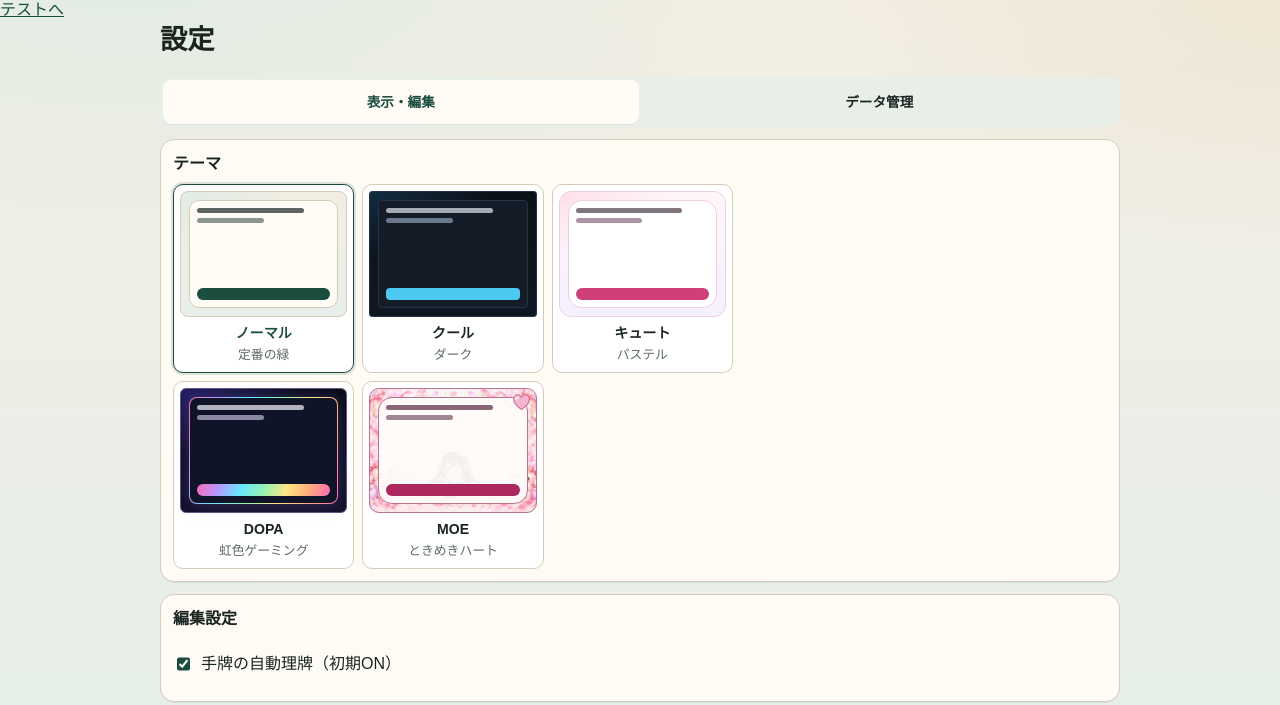
Test: requires explicit legacy selection, preserves other records, and restores through the visible recovery action
What coordinates should you click on to do the following:
click the tab "データ管理"
I would click on:
 (879, 102)
Its box is x1=642 y1=80 x2=1117 y2=124.
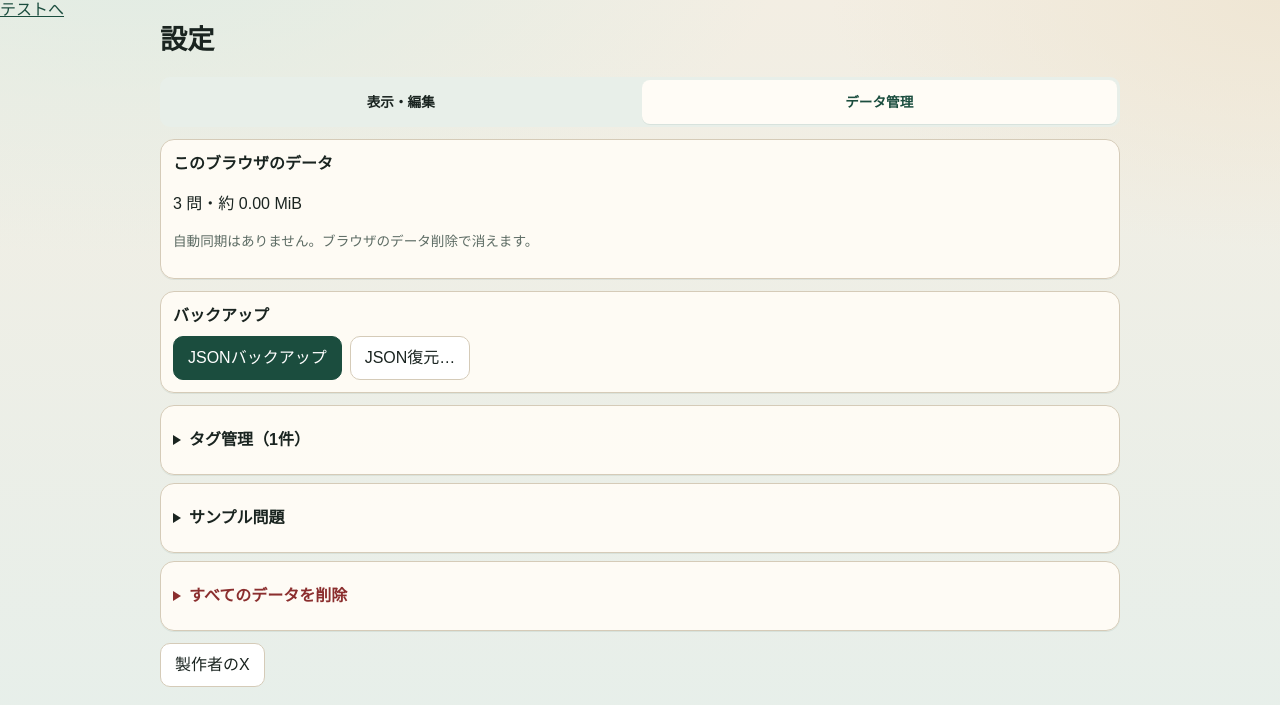
What coordinates should you click on to do the following:
click the heading "サンプル問題"
I would click on:
 (237, 518)
Its box is x1=189 y1=509 x2=284 y2=526.
(page scrolled)
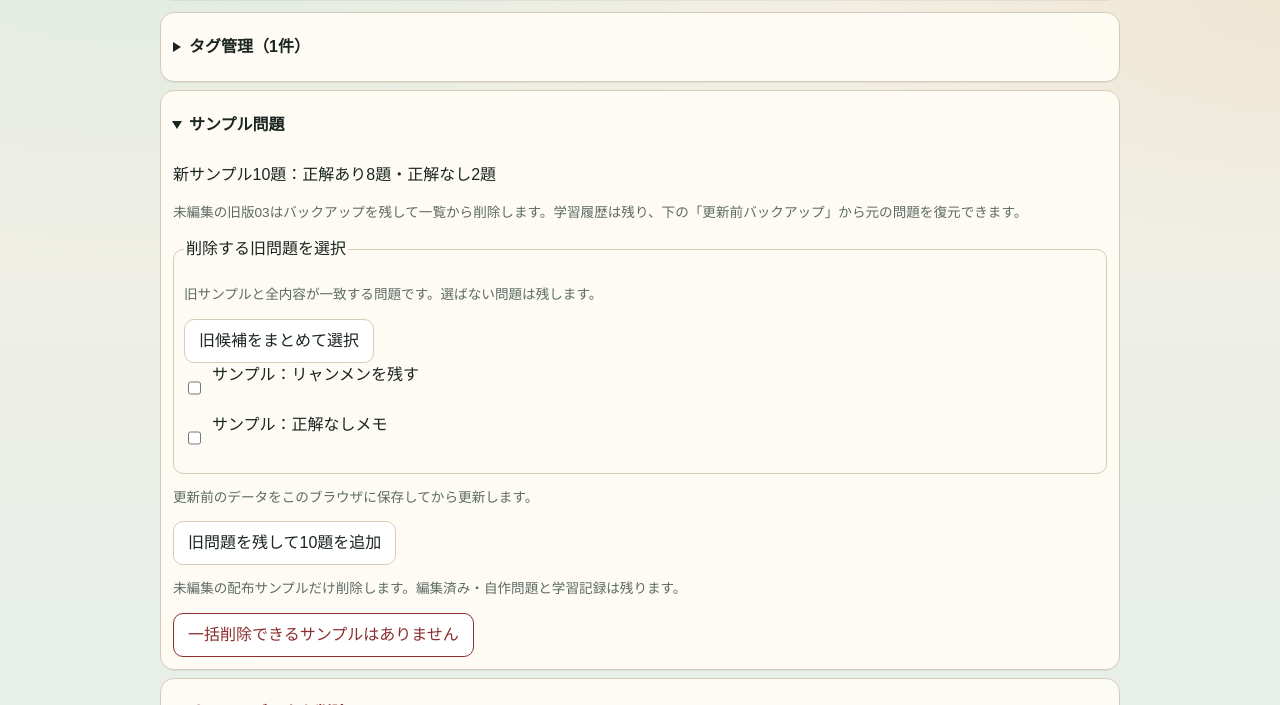
What coordinates should you click on to do the following:
click the checkbox labelled "サンプル：リャンメンを残す"
I would click on:
 (194, 388)
Its box is x1=188 y1=366 x2=201 y2=410.
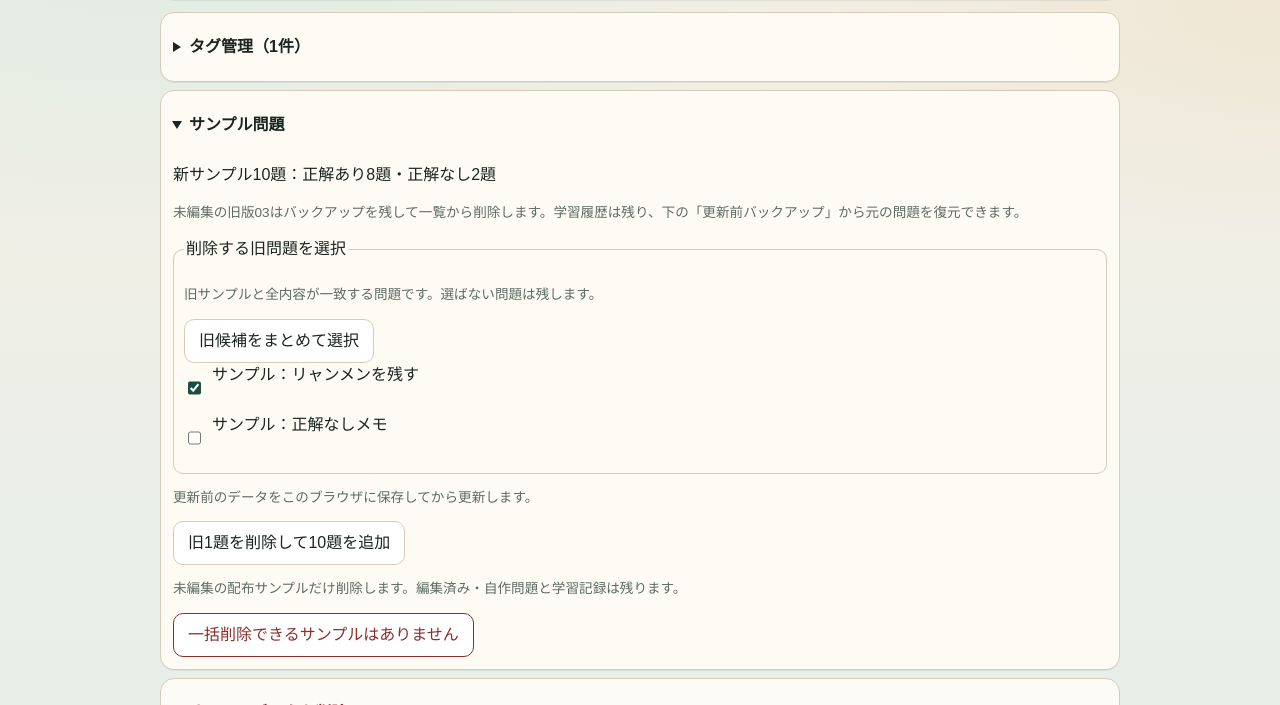
What coordinates should you click on to do the following:
click the button "旧1題を削除して10題を追加"
I would click on:
 (289, 544)
Its box is x1=173 y1=522 x2=405 y2=566.
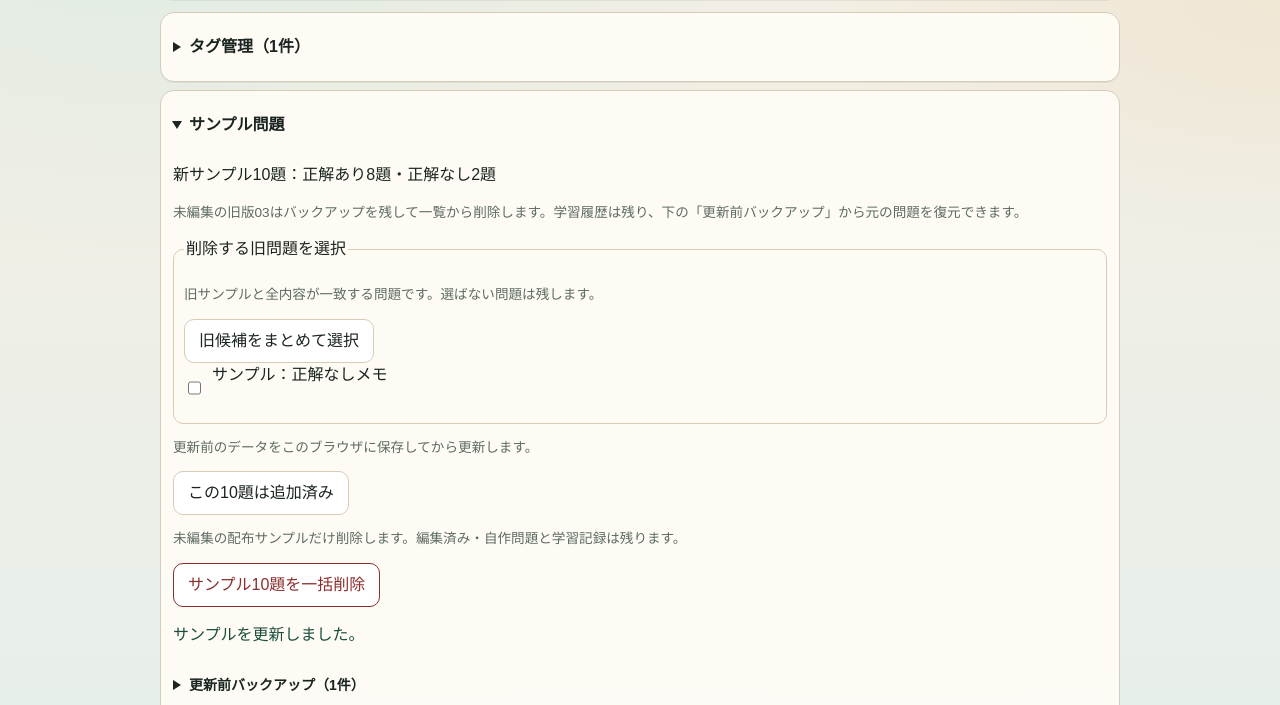
What coordinates should you click on to do the following:
click the heading "更新前バックアップ（1件）"
I would click on:
 (277, 685)
Its box is x1=189 y1=677 x2=365 y2=693.
(page scrolled)
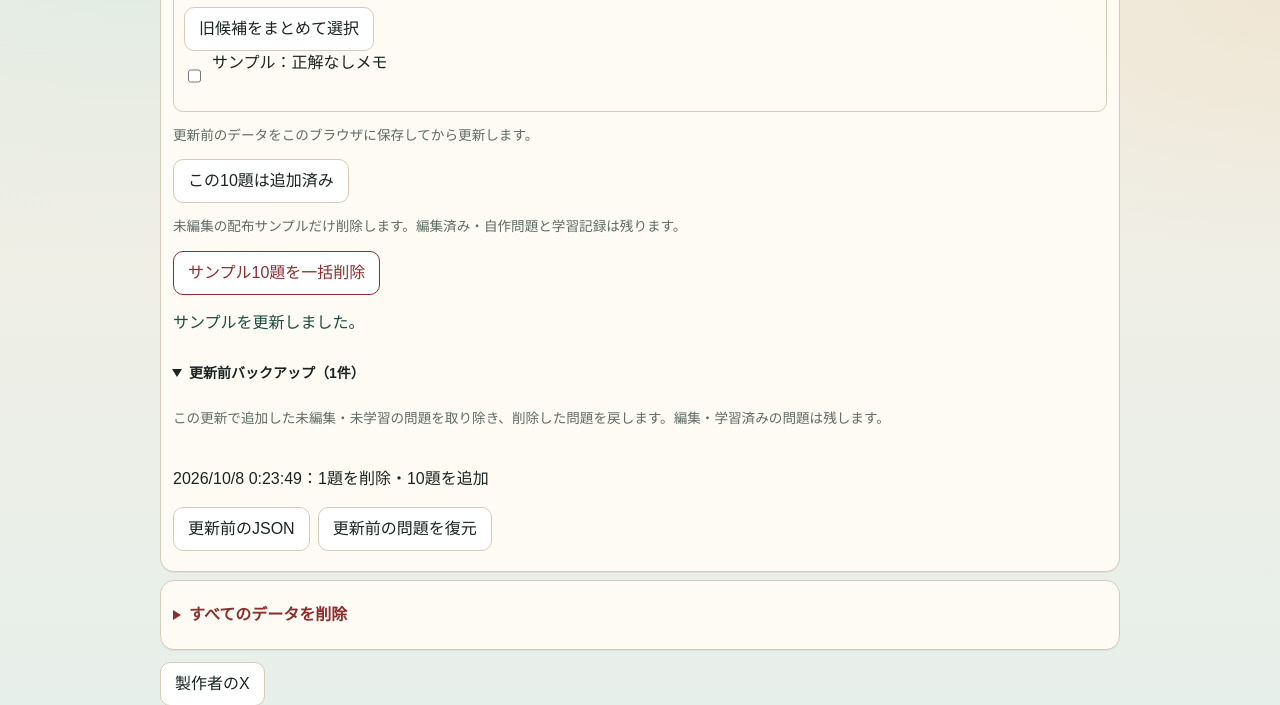
What coordinates should you click on to do the following:
click the button "更新前の問題を復元"
I would click on:
 (405, 529)
Its box is x1=318 y1=507 x2=492 y2=551.
(page scrolled)
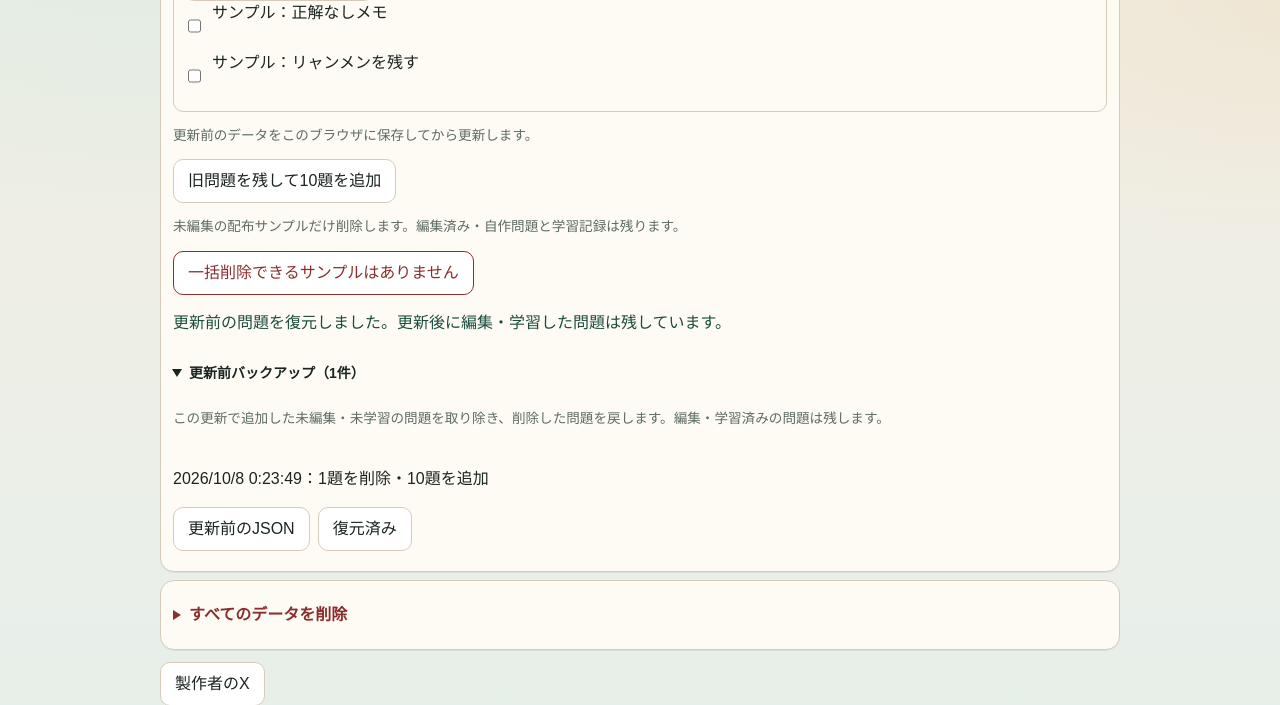
Result: the button "復元済み" is disabled at x1=318 y1=507 x2=412 y2=551
